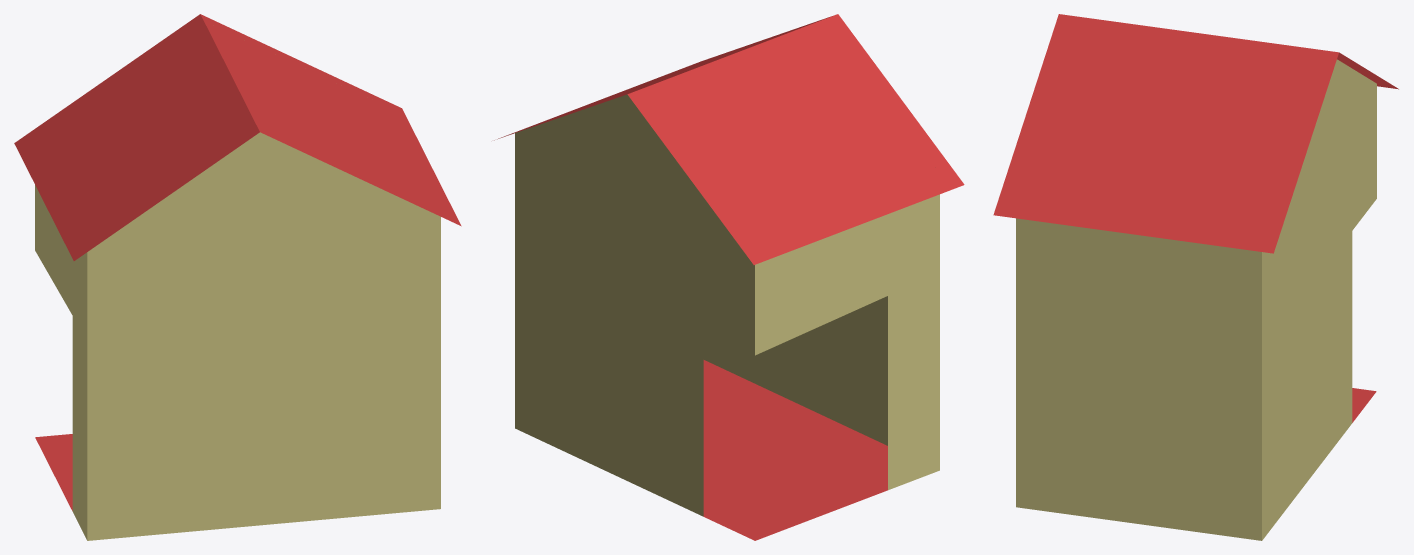
3 views of the same model, side by side, from view 1: azimuth 30°, elevation 25°; view 2: azimuth 150°, elevation 25°; view 3: azimuth 270°, elevation 25° (orthographic). The views are drawn at different scales.
Bounding box in the file's own units: 13.28 × 11.25 × 12.61.
